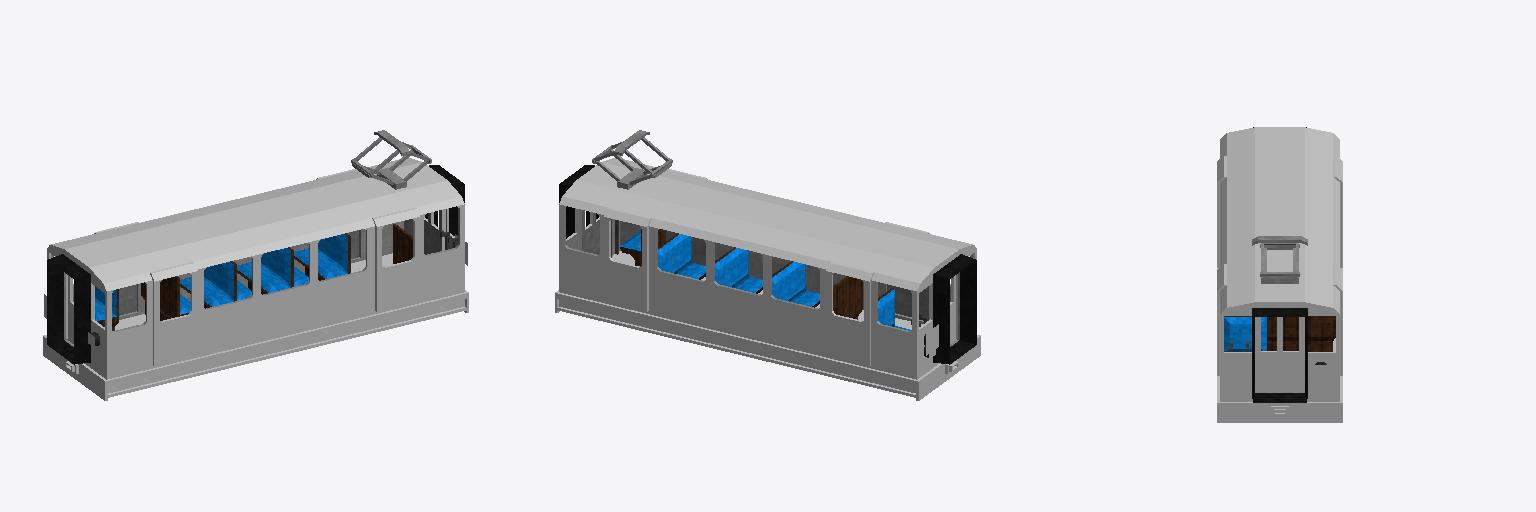
The picture shows the model from 3 angles: view 1: azimuth 30°, elevation 25°; view 2: azimuth 150°, elevation 25°; view 3: azimuth 270°, elevation 25°; orthographic projection.
Parts seen in each view (by area): view 1: FRAME_0_body, FRAME_corridor.001, DOOR_1_EXTERNAL_TOGGLE_CG_leftdoor_TL_1_X, DOOR_2_EXTERNAL_TOGGLE_CG_leftdoor_TL_-1_X, FRAME_0_body.001, FRAME_1, FRAME_3, FRAME_2, FRAME_bench.001, FRAME_bench.002, FRAME_bench.003, FRAME_end1 (+6 smaller); view 2: FRAME_0_body, FRAME_corridor.001, DOOR_3_EXTERNAL_TOGGLE_CG_rightdoor_TL_1_X, DOOR_4_EXTERNAL_TOGGLE_CG_rightdoor_TL_-1_X, FRAME_0_body.001, FRAME_1, FRAME_3, FRAME_2, FRAME_end1, FRAME_bench.002, FRAME_bench.003, FRAME_bench.001 (+6 smaller); view 3: FRAME_0_body, FRAME_end2, FRAME_bench.003, FRAME_corridor.002, DOOR_7_CONNECTING_CG_rearend, DOOR_8_CONNECTING_CG_rearend, FRAME_bench.005, HEADLIGHT_4_0xFFF0E1_LCG_REVERSERBACKWARD.
Boxes of the visible parts, x1,y1,x2,y2 form: FRAME_0_body: [47, 158, 464, 379]; FRAME_corridor.001: [47, 254, 90, 364]; DOOR_1_EXTERNAL_TOGGLE_CG_leftdoor_TL_1_X: [150, 262, 197, 366]; DOOR_2_EXTERNAL_TOGGLE_CG_leftdoor_TL_-1_X: [372, 208, 419, 311]; FRAME_0_body.001: [51, 208, 459, 346]; FRAME_1: [115, 314, 235, 391]; FRAME_3: [337, 256, 442, 341]; FRAME_2: [234, 324, 338, 366]; FRAME_bench.001: [237, 247, 308, 294]; FRAME_bench.002: [180, 261, 251, 308]; FRAME_bench.003: [294, 233, 350, 280]; FRAME_end1: [43, 335, 130, 400]; FRAME_0_body: [559, 158, 976, 379]; FRAME_corridor.001: [933, 254, 976, 364]; DOOR_3_EXTERNAL_TOGGLE_CG_rightdoor_TL_1_X: [826, 262, 873, 366]; DOOR_4_EXTERNAL_TOGGLE_CG_rightdoor_TL_-1_X: [604, 208, 651, 311]; FRAME_0_body.001: [564, 208, 972, 346]; FRAME_1: [788, 310, 922, 391]; FRAME_3: [581, 260, 705, 341]; FRAME_2: [685, 290, 819, 366]; FRAME_end1: [893, 335, 980, 400]; FRAME_bench.002: [772, 261, 819, 307]; FRAME_bench.003: [658, 233, 705, 279]; FRAME_bench.001: [715, 247, 762, 293]; FRAME_0_body: [1220, 127, 1339, 401]; FRAME_end2: [1217, 390, 1342, 422]; FRAME_bench.003: [1267, 316, 1335, 351]; FRAME_corridor.002: [1252, 308, 1307, 402]; DOOR_7_CONNECTING_CG_rearend: [1255, 317, 1279, 391]; DOOR_8_CONNECTING_CG_rearend: [1280, 317, 1304, 391]; FRAME_bench.005: [1224, 316, 1266, 351]; HEADLIGHT_4_0xFFF0E1_LCG_REVERSERBACKWARD: [1227, 359, 1251, 381].
Bounding box in the file's own units: 9 × 3.69 × 2.5.
Materials: 9 (4 with a texture image).